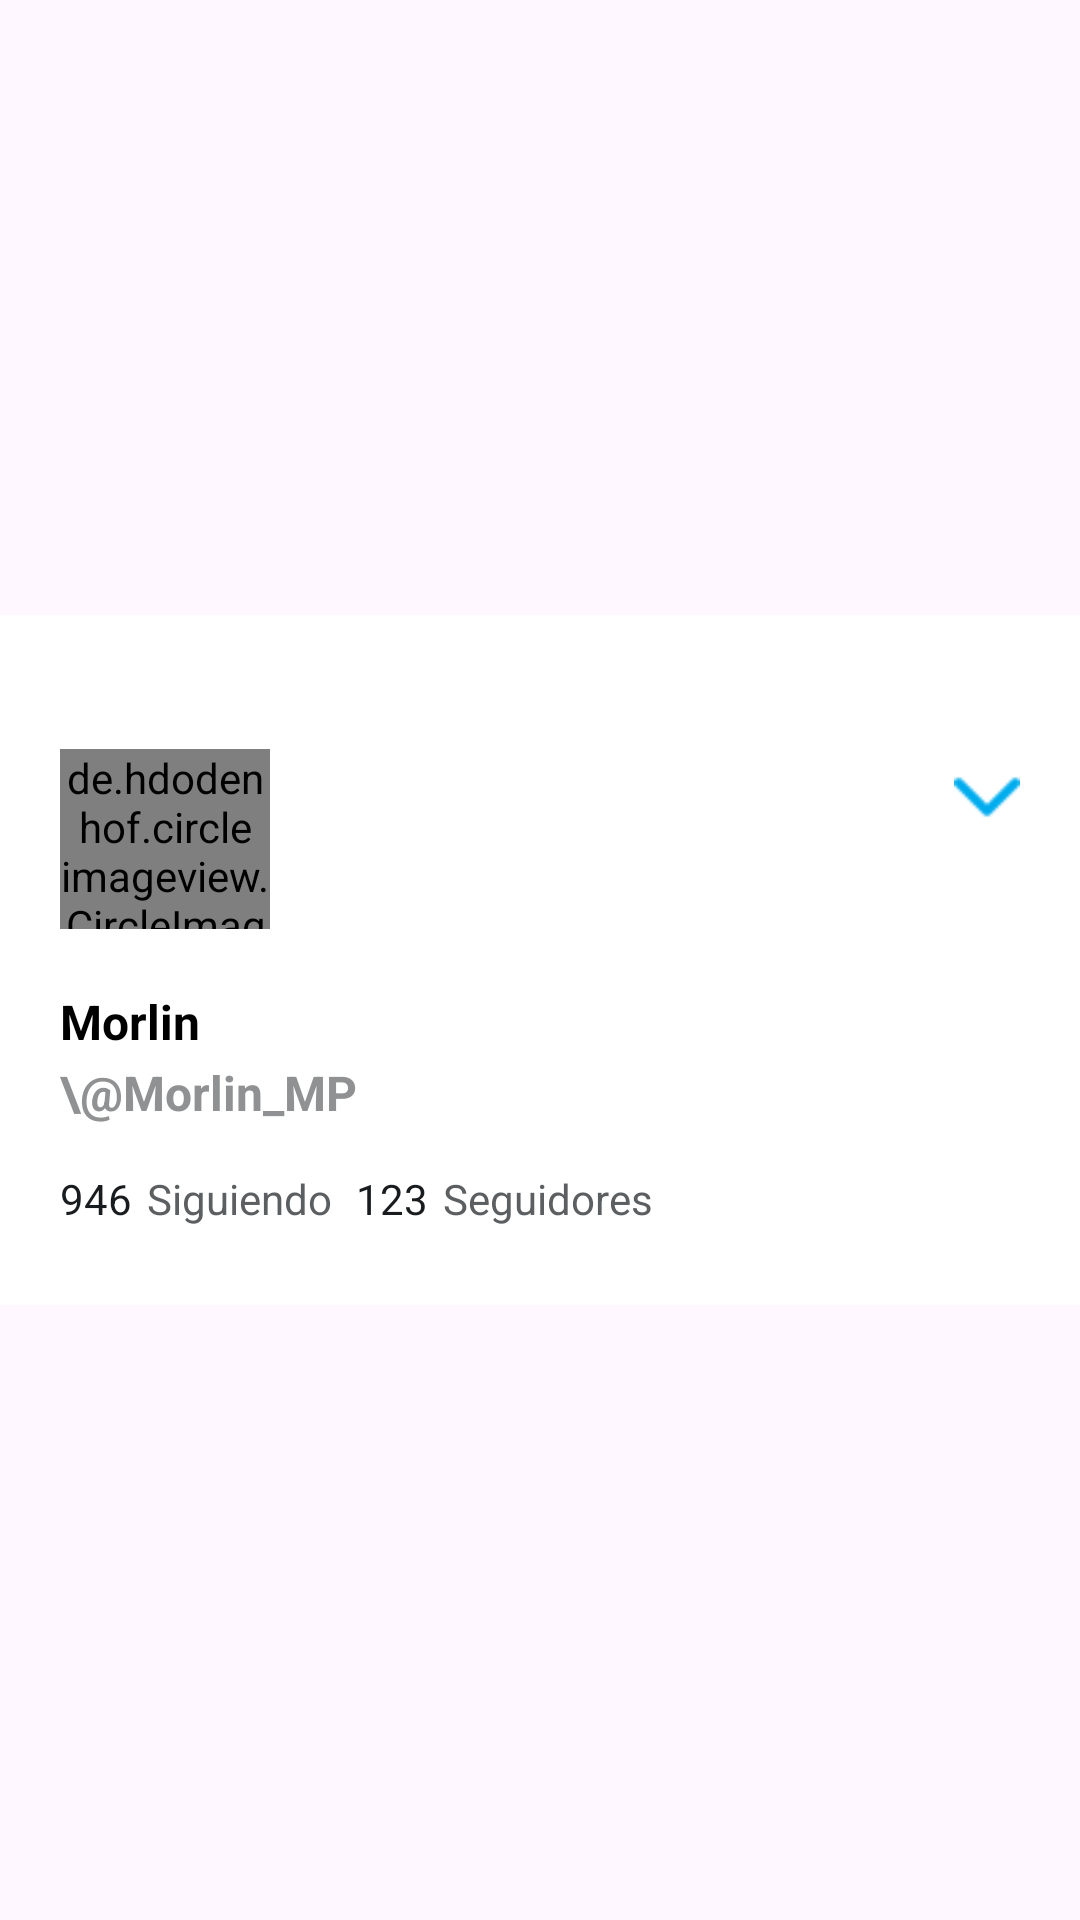

Icon bounding boxes for this 1080x1920 phone screenshot, format (x1, y1, x2, y2):
desplegar: (954, 777, 1020, 817)
